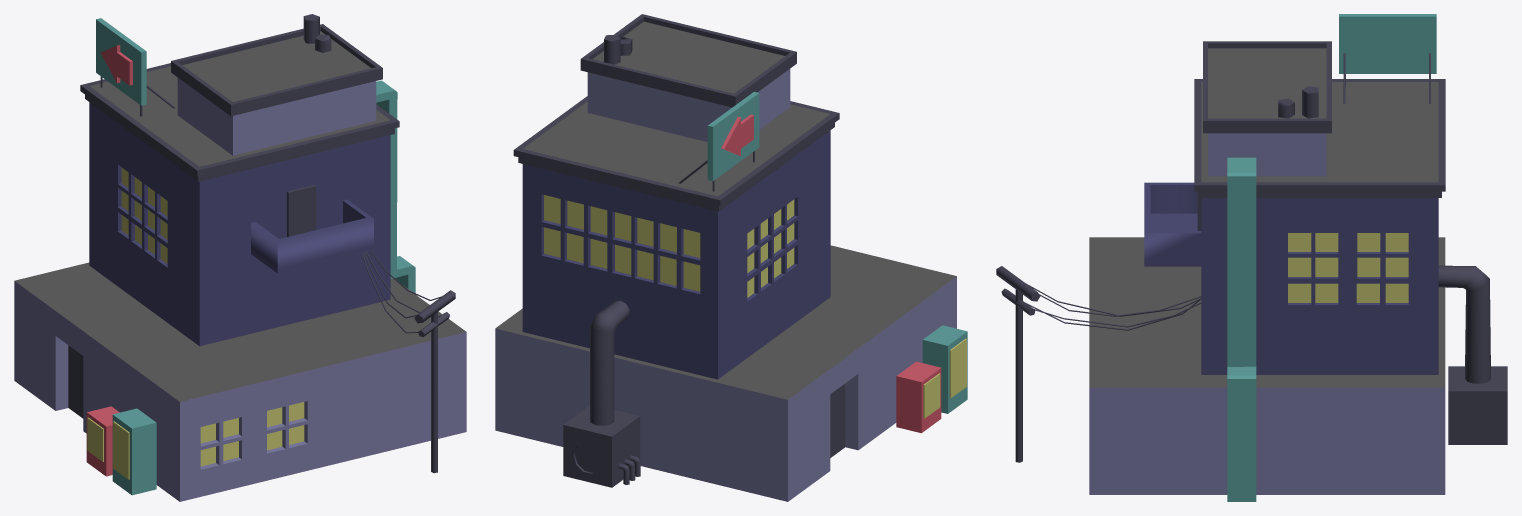
Rendered from SM_House_1_1.fbx.
3 views of the same model, side by side, from view 1: azimuth 30°, elevation 25°; view 2: azimuth 150°, elevation 25°; view 3: azimuth 270°, elevation 25° (orthographic). The views are drawn at different scales.
Parts seen in each view (by area): view 1: SM_House_1_1; view 2: SM_House_1_1; view 3: SM_House_1_1.
Part boxes in pixels (left/top/right/bottom): SM_House_1_1: left=14, top=14, right=466, bottom=501; SM_House_1_1: left=495, top=14, right=967, bottom=501; SM_House_1_1: left=996, top=14, right=1507, bottom=501.
Bounding box in the file's own units: 6.91 × 7.03 × 8.62.
